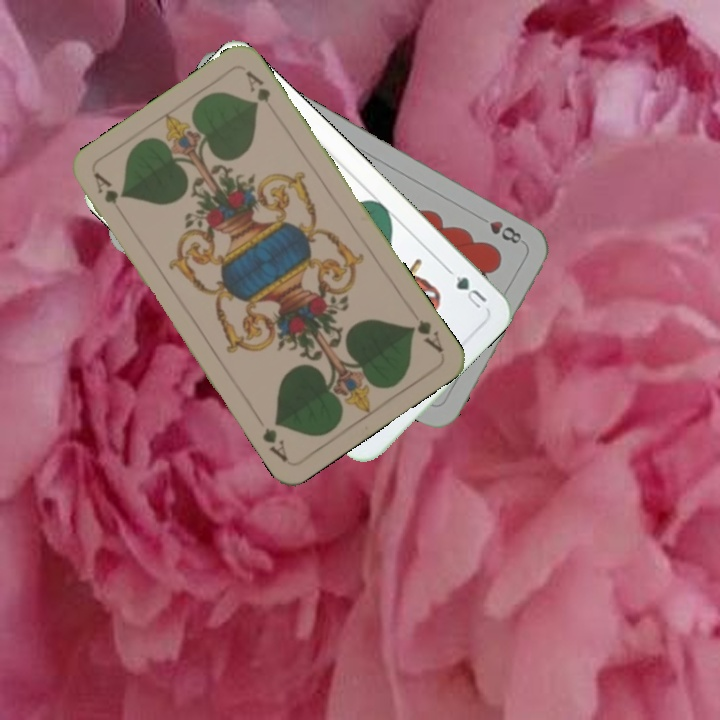GA: (89, 169, 127, 222), (405, 315, 447, 356)
GU: (444, 265, 490, 314)
H8: (485, 216, 524, 247)
